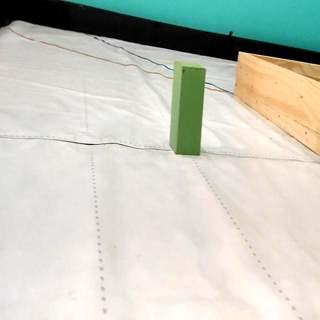greenbox: (169, 58, 207, 156)
